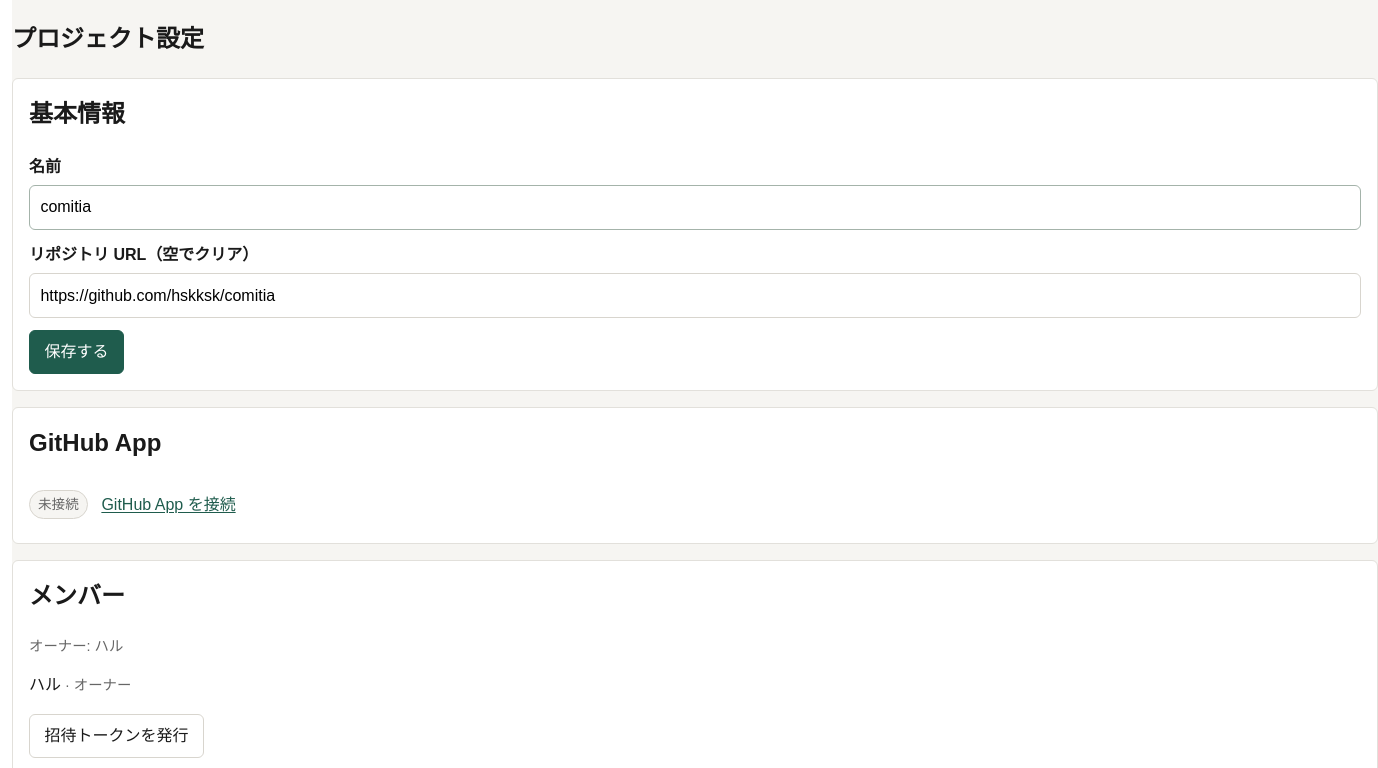
ProjectSettingsPage › connects an existing GitHub App installation without leaving the page
Click the button "GitHub App を接続": (169, 504) [101,482,236,526]
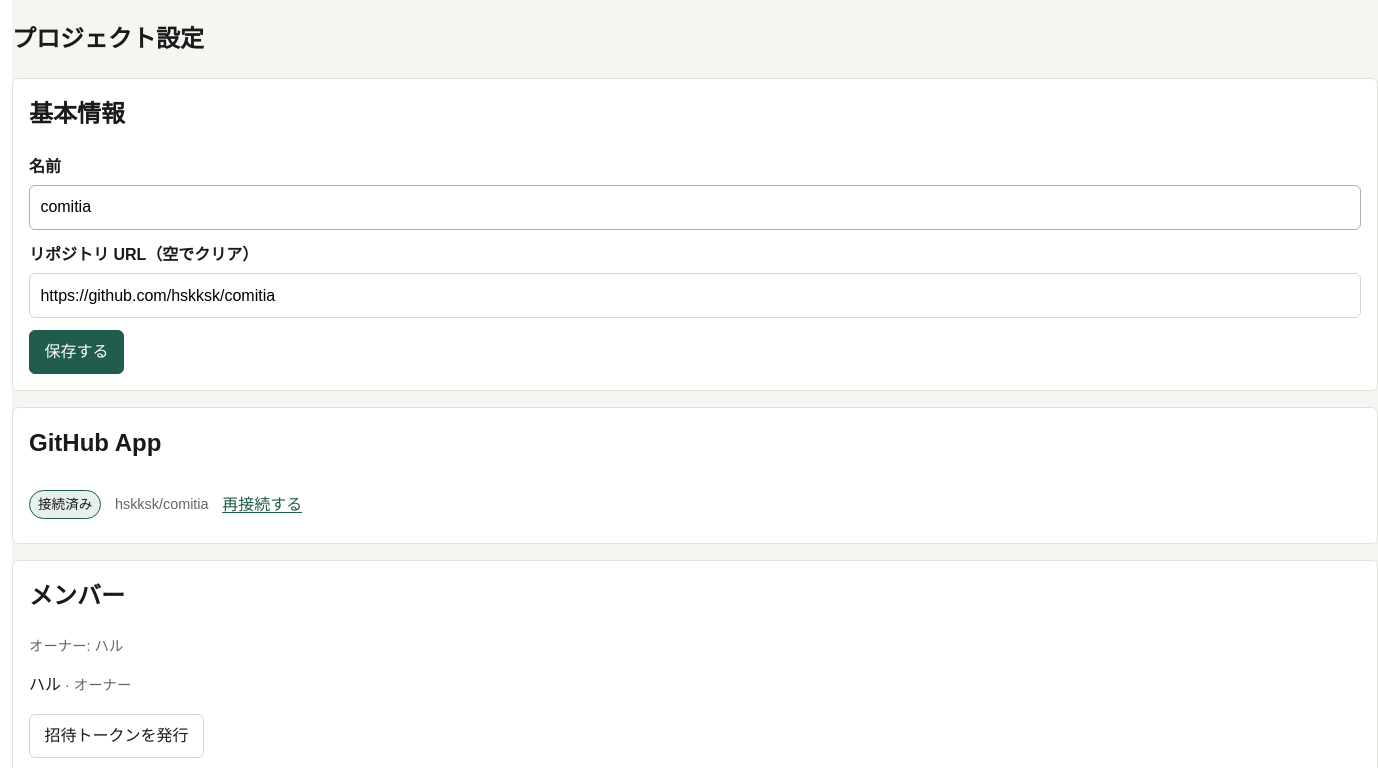
Now the message reads "接続済み", box [38,497,92,512]
